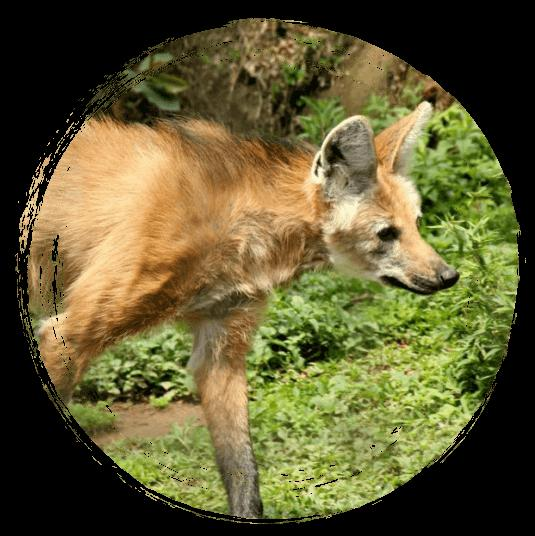LoboGuara: (124, 97, 463, 460)
